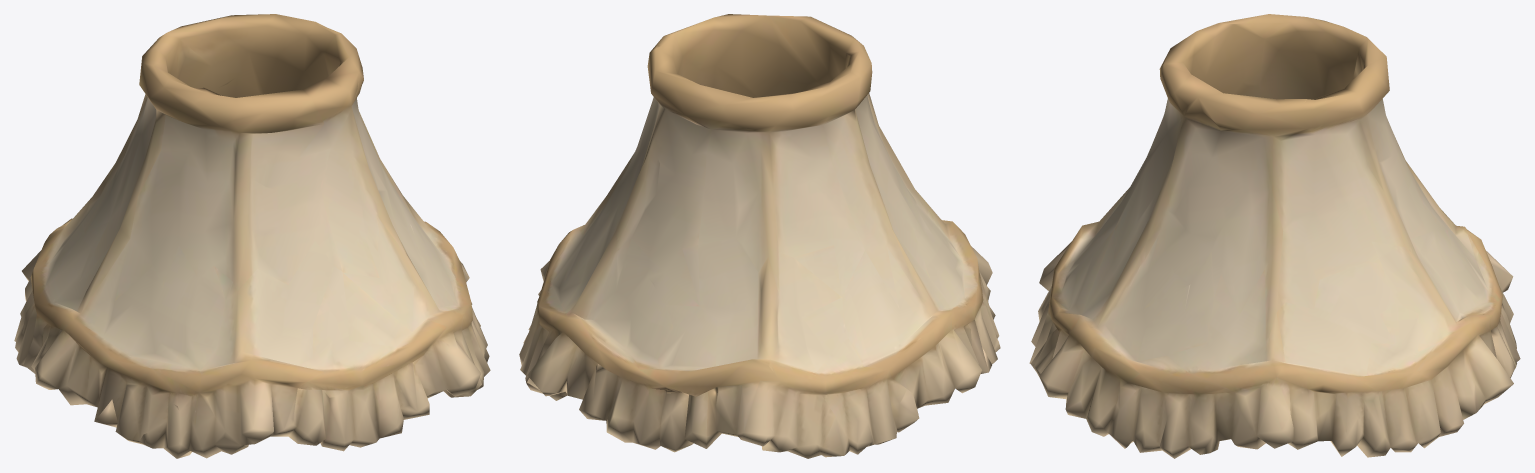
File: hat-lampshade.glb
The picture shows the model from 3 angles, left to right: view 1: azimuth 30°, elevation 25°; view 2: azimuth 150°, elevation 25°; view 3: azimuth 270°, elevation 25°; orthographic projection.
Visible parts, largest first — view 1: tripo_node_6a19e7f1-637a-478e-9416-f9d1e3b1f5a6; view 2: tripo_node_6a19e7f1-637a-478e-9416-f9d1e3b1f5a6; view 3: tripo_node_6a19e7f1-637a-478e-9416-f9d1e3b1f5a6.
Boxes of the visible parts, left/top/right/bottom form: tripo_node_6a19e7f1-637a-478e-9416-f9d1e3b1f5a6: left=14, top=14, right=490, bottom=458; tripo_node_6a19e7f1-637a-478e-9416-f9d1e3b1f5a6: left=519, top=14, right=1000, bottom=458; tripo_node_6a19e7f1-637a-478e-9416-f9d1e3b1f5a6: left=1029, top=14, right=1520, bottom=458.
Bounding box in the file's own units: 1 × 0.696 × 0.9746.
Materials: 1 (1 with a texture image).
